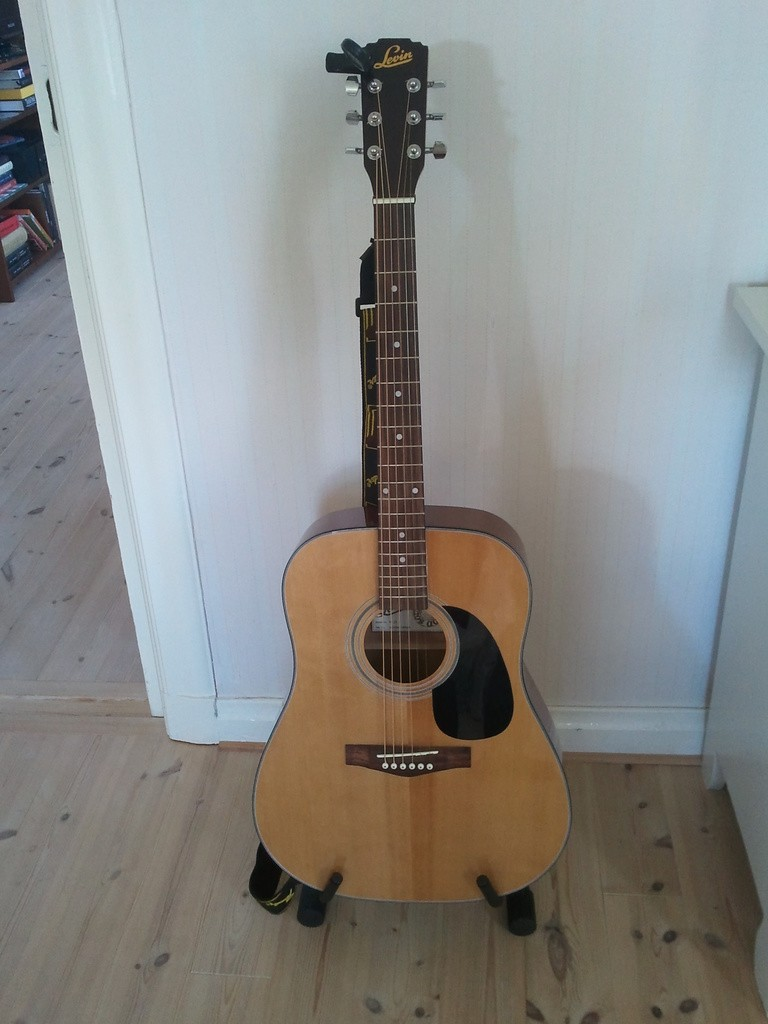guitar: (248, 38, 571, 936)
